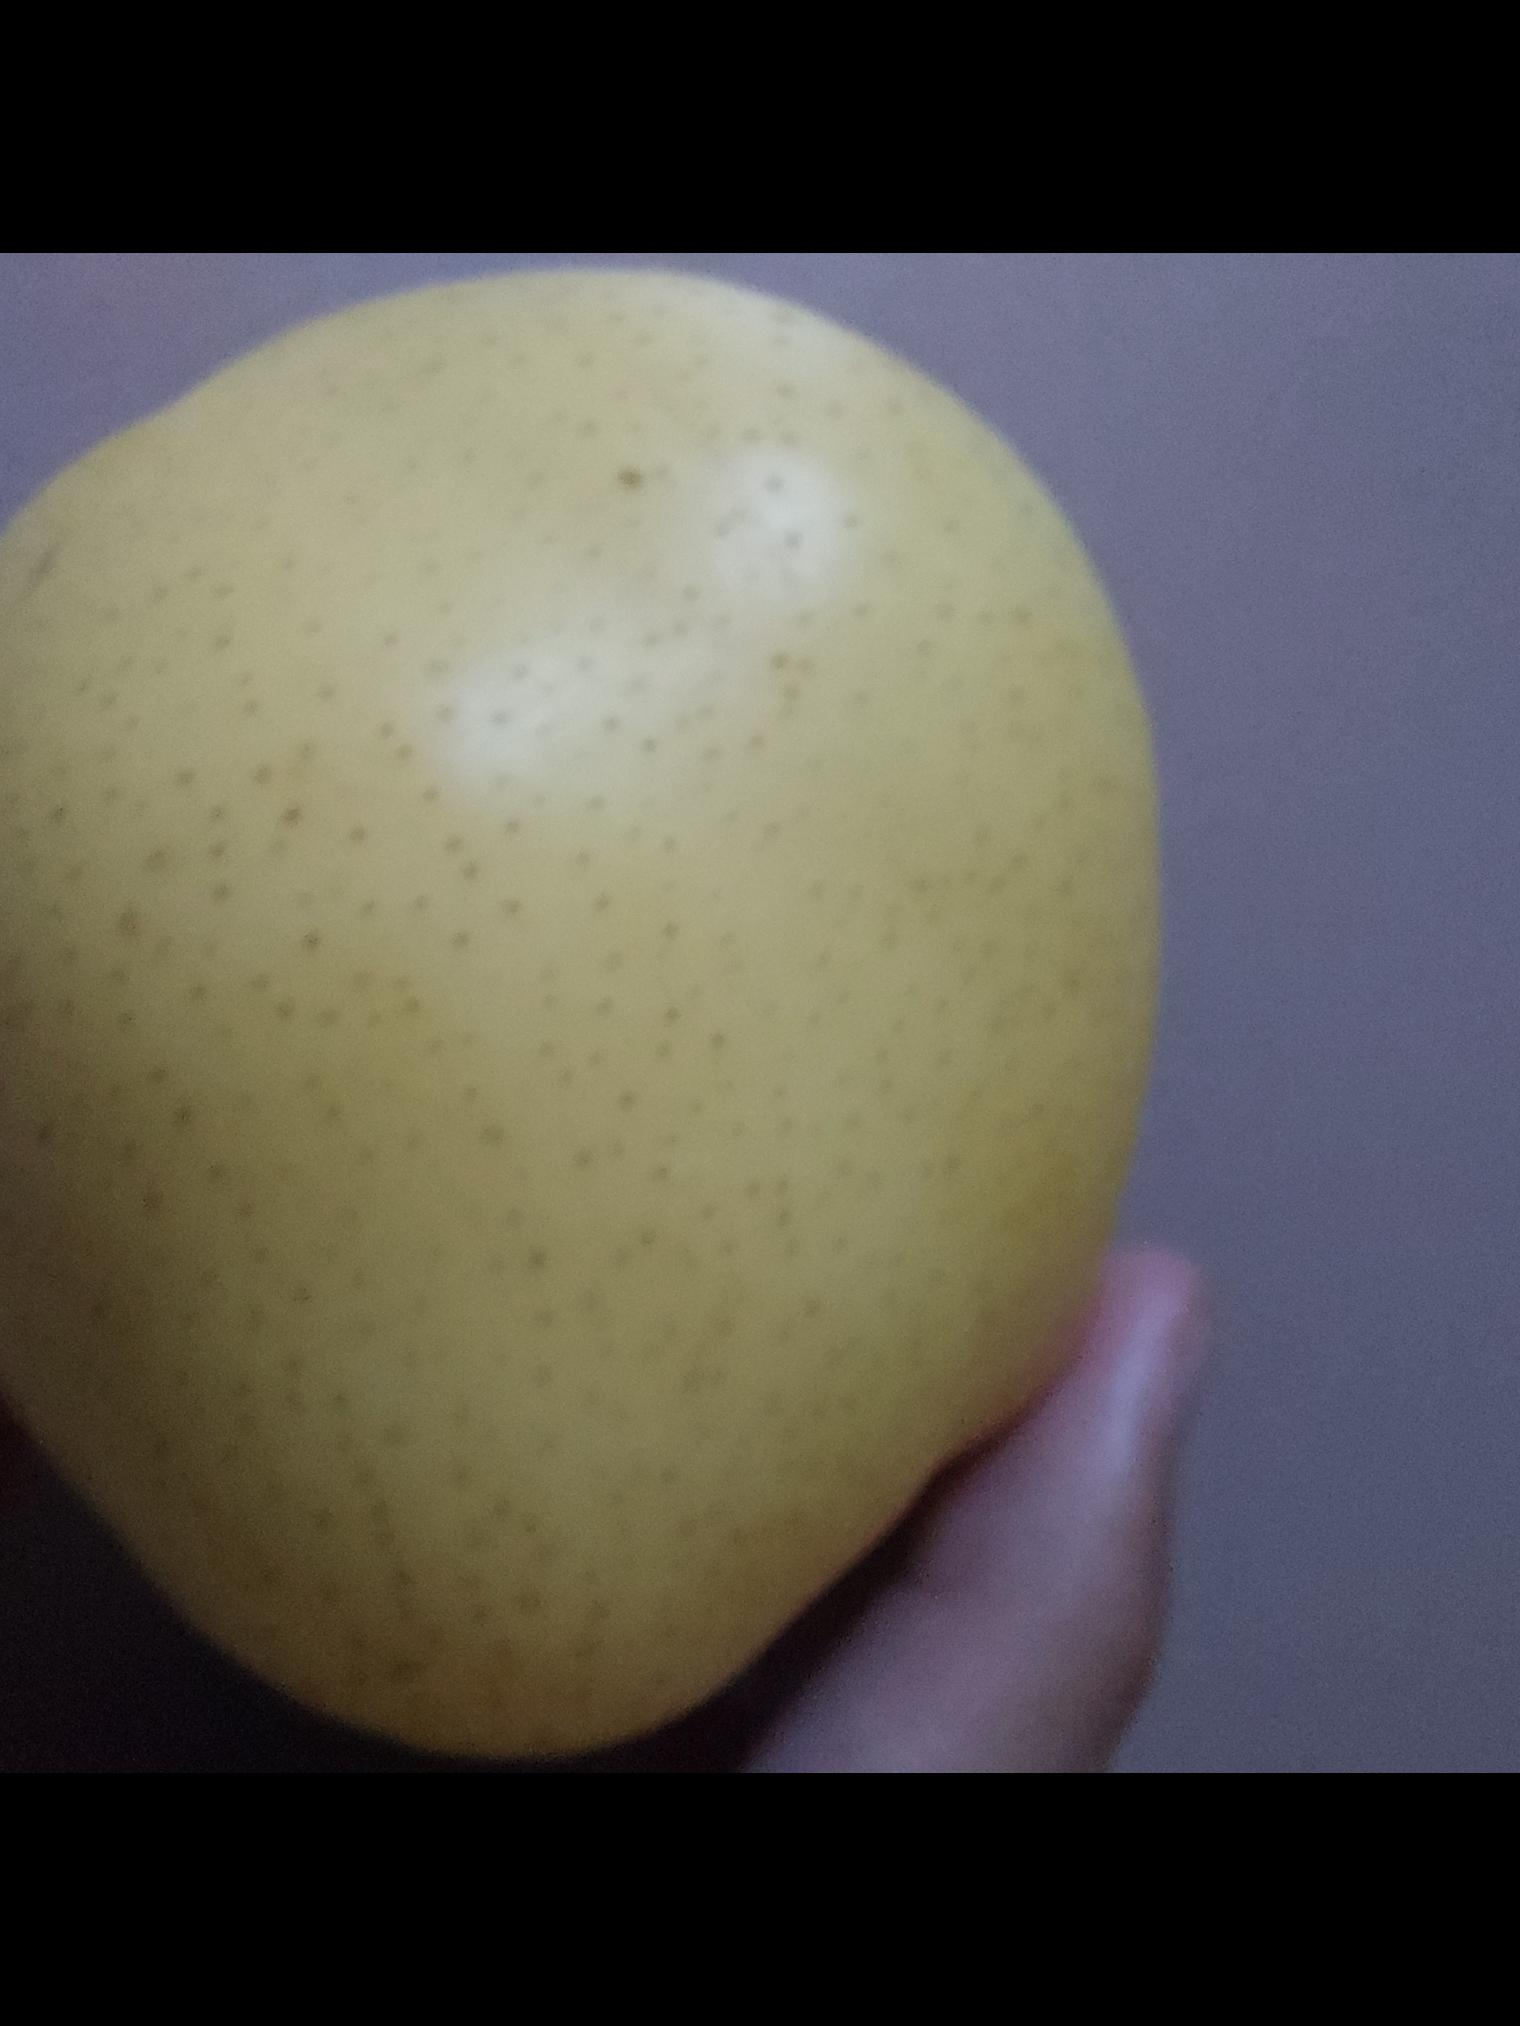Good Pear: (0, 271, 1157, 1736)
